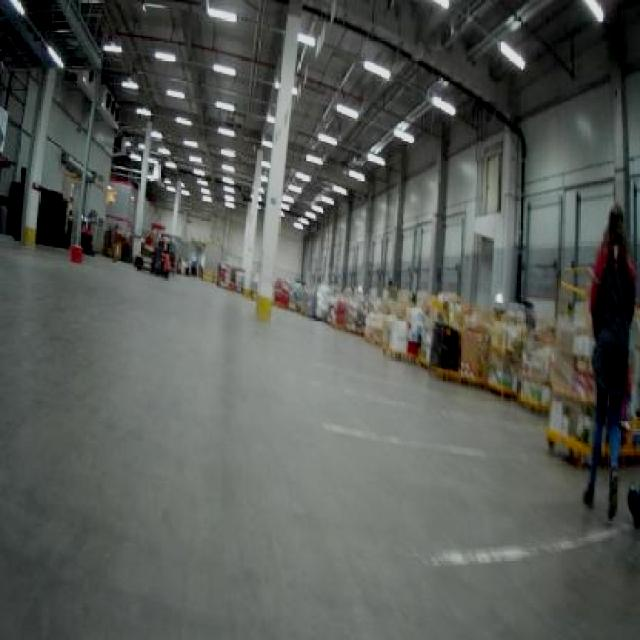floor: (0, 235, 637, 637)
pallets: (545, 265, 591, 462), (620, 306, 637, 457)
